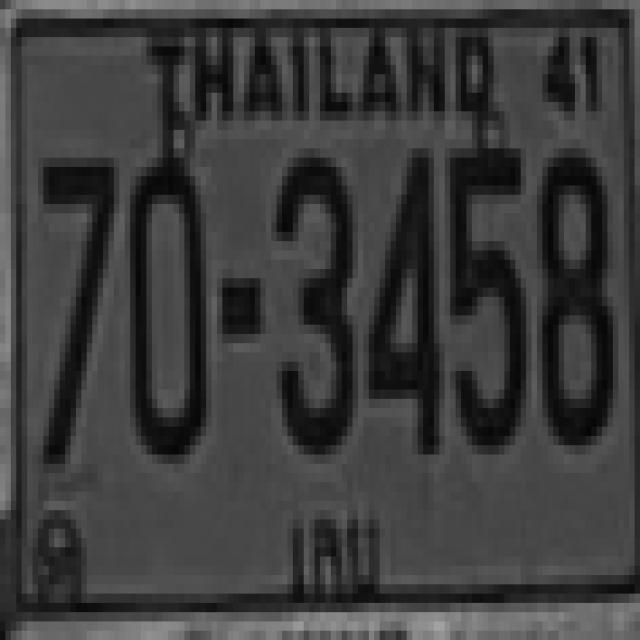0: (128, 148, 204, 454)
3: (271, 148, 353, 446)
4: (366, 148, 437, 446)
5: (444, 139, 520, 445)
7: (38, 153, 114, 459)
8: (537, 148, 607, 436)
Loei: (277, 493, 390, 602)
